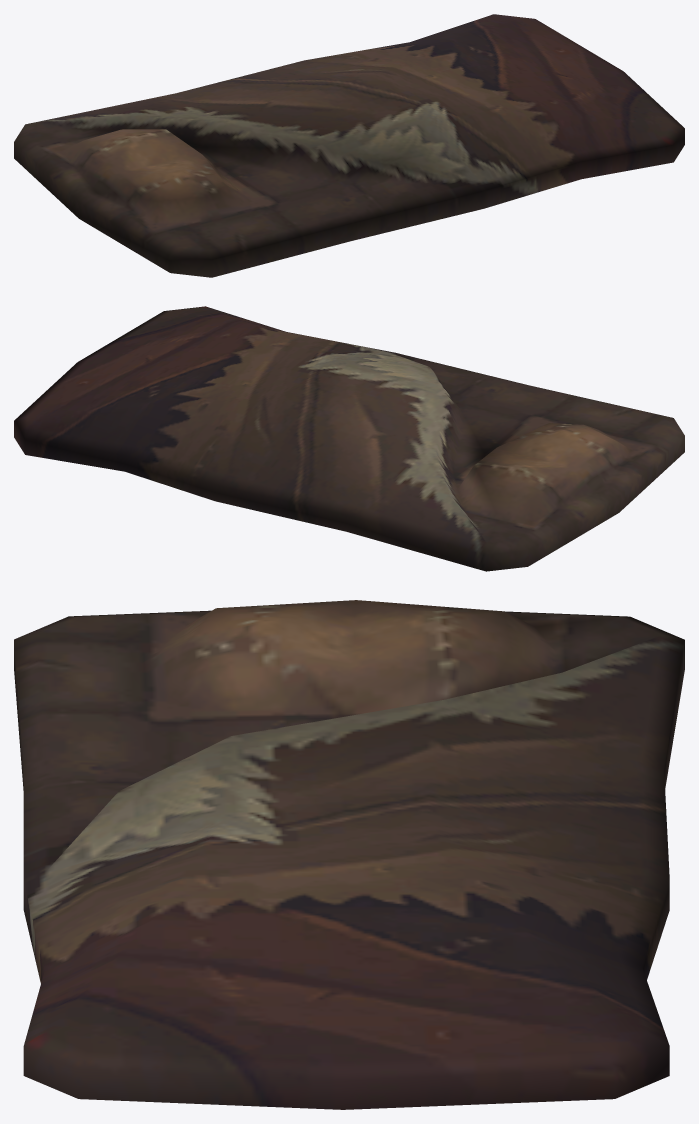
Rendered from bedroll_01.obj.
The picture shows the model from 3 angles, top to bottom: view 1: azimuth 30°, elevation 25°; view 2: azimuth 150°, elevation 25°; view 3: azimuth 270°, elevation 25°; orthographic projection. The views are drawn at different scales.
Parts seen in each view (by area): view 1: Bedroll_01; view 2: Bedroll_01; view 3: Bedroll_01.
Boxes of the visible parts, box(x1,y1,x2,y2) form: Bedroll_01: box(14, 14, 684, 277); Bedroll_01: box(14, 306, 684, 571); Bedroll_01: box(14, 600, 684, 1109).
Bounding box in the file's own units: 2.14 × 0.188 × 1.28.
1 material, 1 textured.
